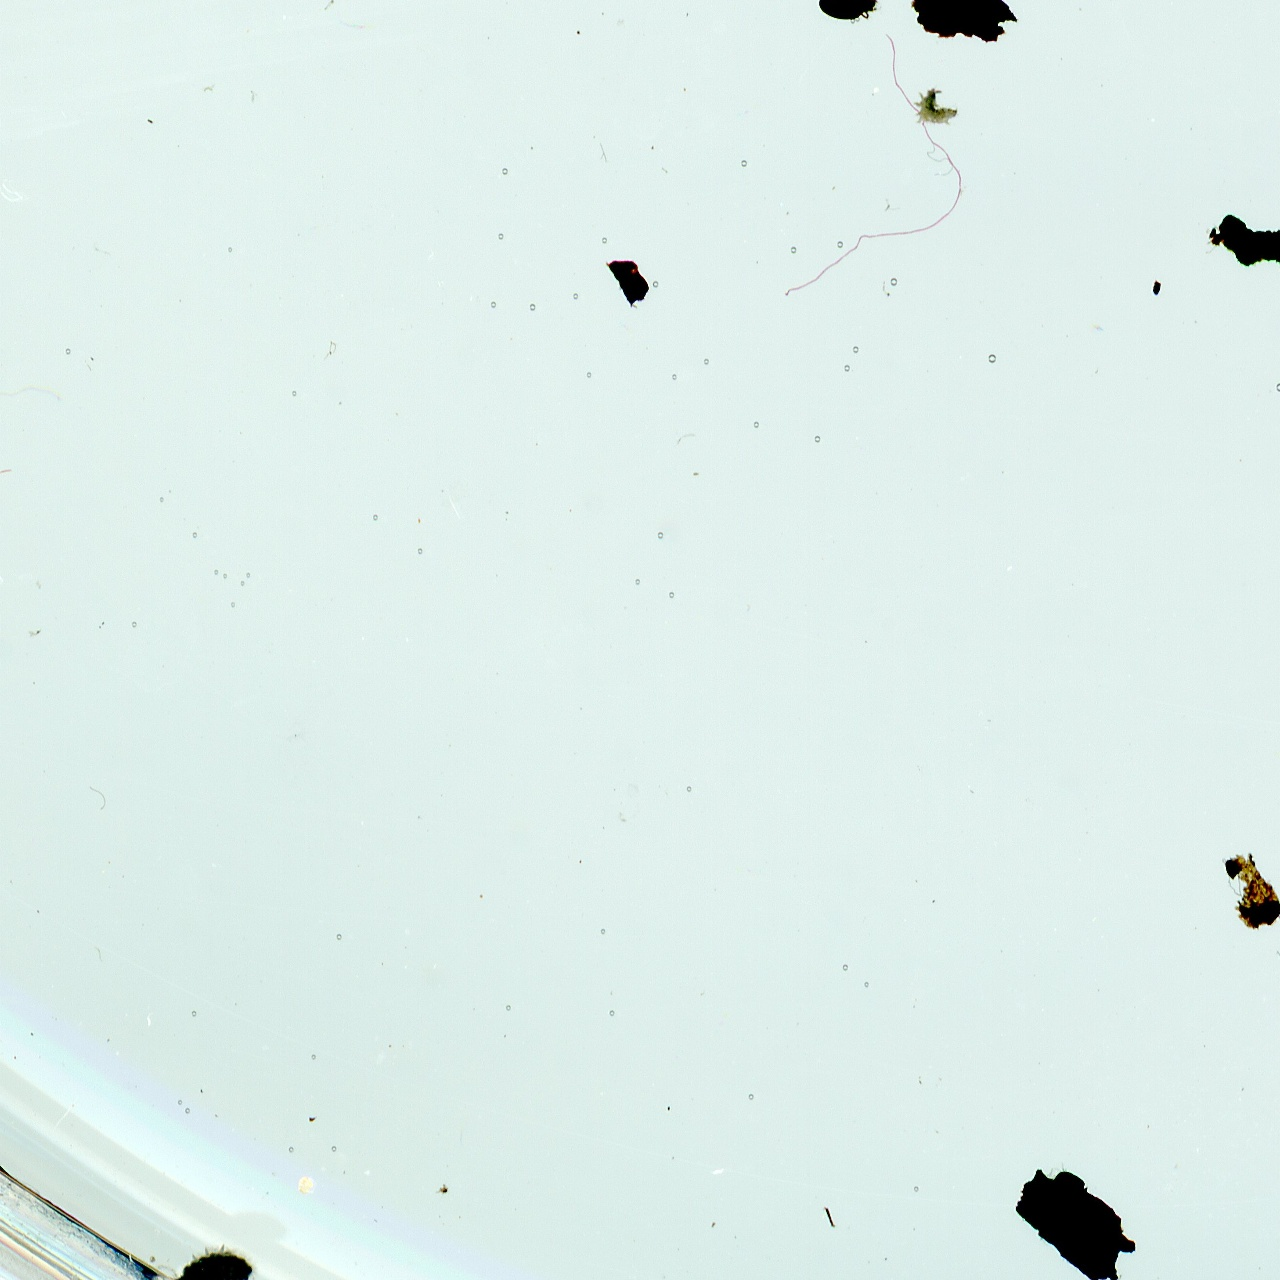arthropod: (173, 1241, 255, 1280), (910, 86, 960, 129), (816, 0, 879, 25)
